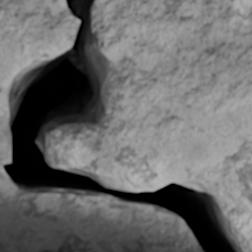broken_brick: (46, 0, 251, 215), (0, 0, 78, 163)
crack: (0, 0, 251, 251)
